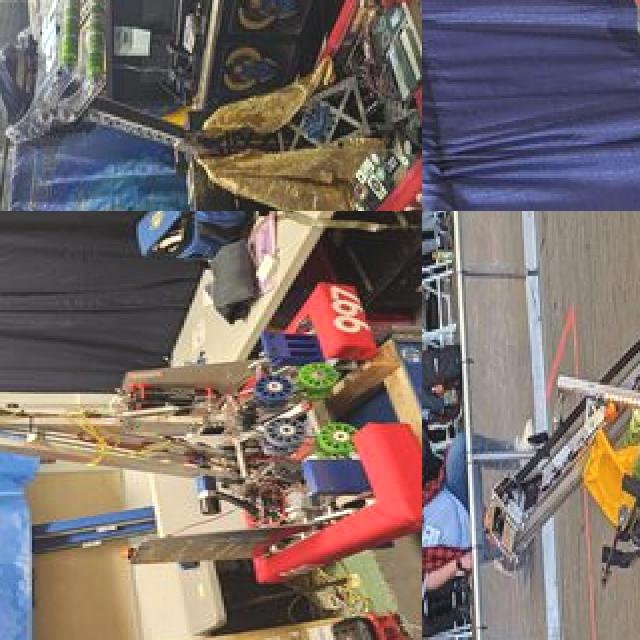FRC-Robots: (0, 262, 421, 640), (0, 0, 422, 211), (467, 211, 640, 640), (496, 0, 640, 188)
